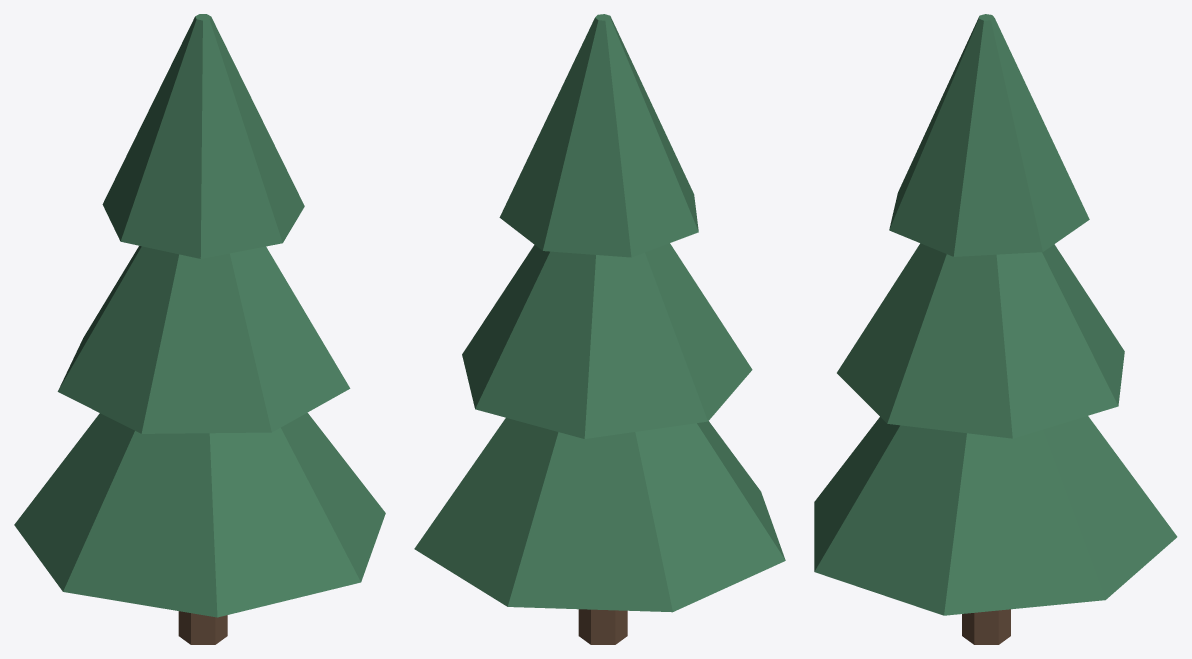
The model's file is Env_Pine.fbx.
3 views of the same model, side by side, from view 1: azimuth 30°, elevation 25°; view 2: azimuth 150°, elevation 25°; view 3: azimuth 270°, elevation 25° (orthographic).
Visible parts, largest first — view 1: Leaves, Bark; view 2: Leaves, Bark; view 3: Leaves, Bark.
Boxes of the visible parts, box(x1,y1,x2,y2) form: Leaves: box(14, 14, 385, 617); Bark: box(178, 611, 227, 644); Leaves: box(414, 14, 785, 612); Bark: box(578, 609, 627, 644); Leaves: box(814, 14, 1177, 615); Bark: box(962, 609, 1010, 644).
Size of the model in its own units: 13.65 by 25 by 13.31.
